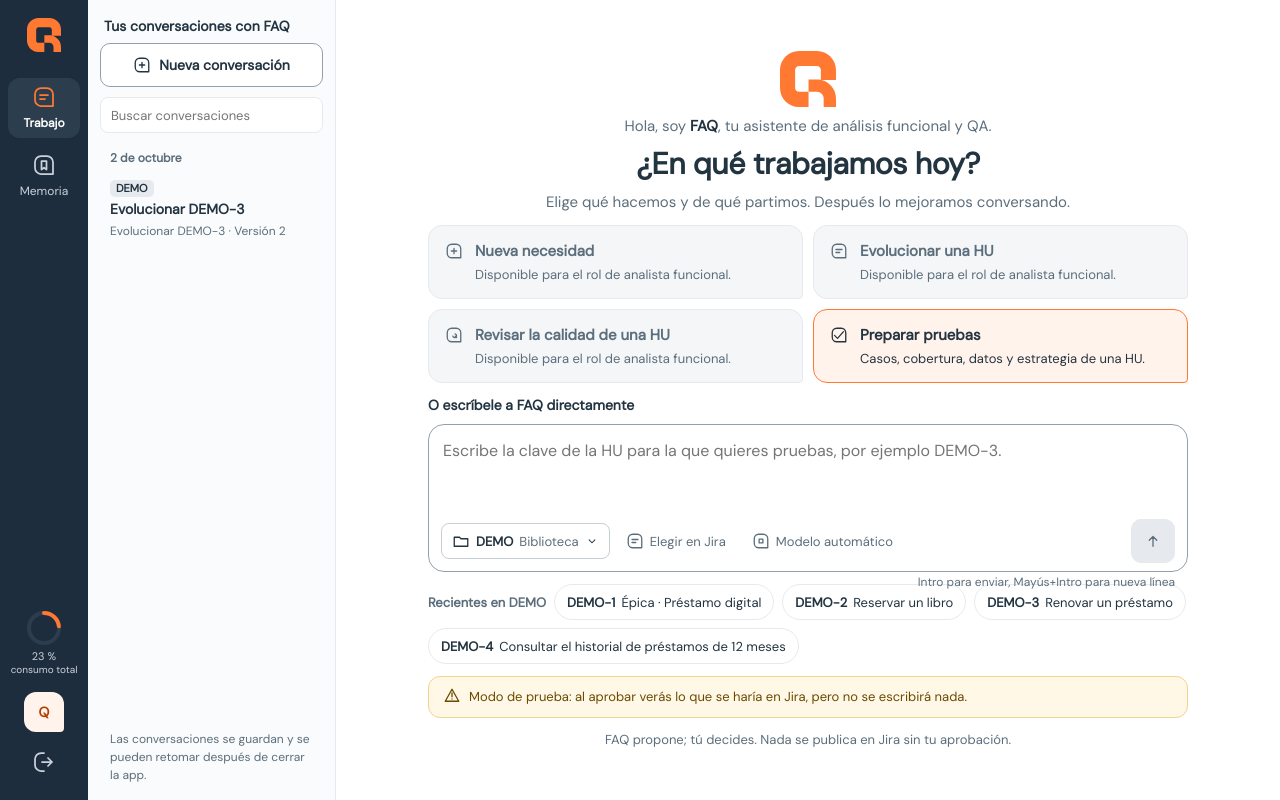
Test case: Iterar · versión «Jira» (bloque A) › con la suite de QA (mode qa, jira_baseline null) no hay versión «Jira» y se abre el panel de la suite
Step 1. Click the button "DEMO Evolucionar DEMO-3 Evolucionar DEMO-3 · Versión 2" → [212, 210], box [100,171,323,248]
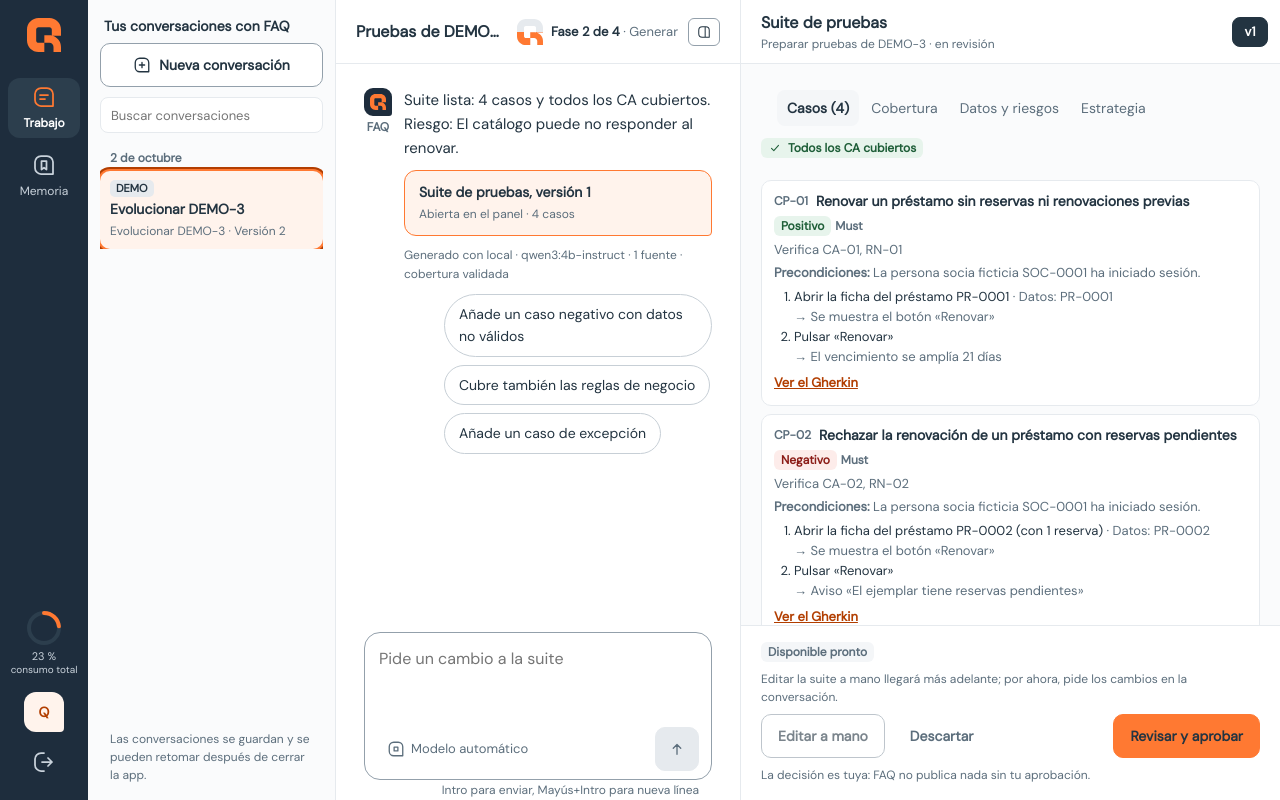
Expected: the element "Suite de pruebas" is shown, [740,0,1279,799]
Expected: the buttons read "v1", in this order, [1232,16,1268,46]
